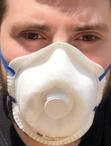with_mask: (2, 1, 111, 146)
